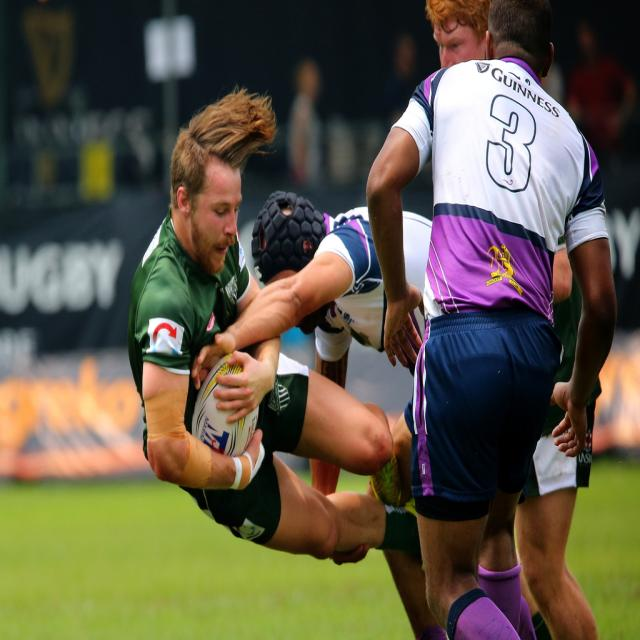Ball: (200, 355, 266, 466)
